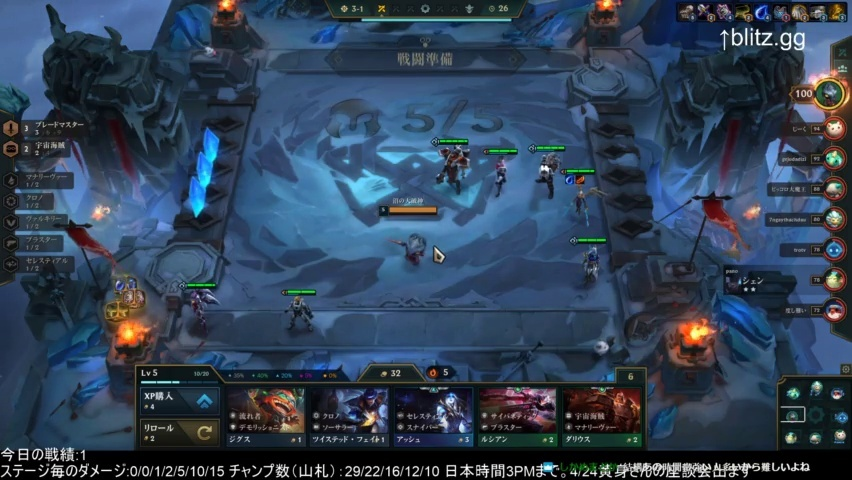:tear, rod, bow: (100, 252, 163, 332)
darius*2: (428, 133, 478, 199)
ezreal: (276, 285, 323, 339)
graves*2: (530, 142, 568, 202)
kaisa*2: (177, 280, 220, 342)
kayle: tear, guinsoo: (557, 166, 607, 230)
shen: (482, 144, 522, 204)
xayah*2: (564, 234, 614, 297)
